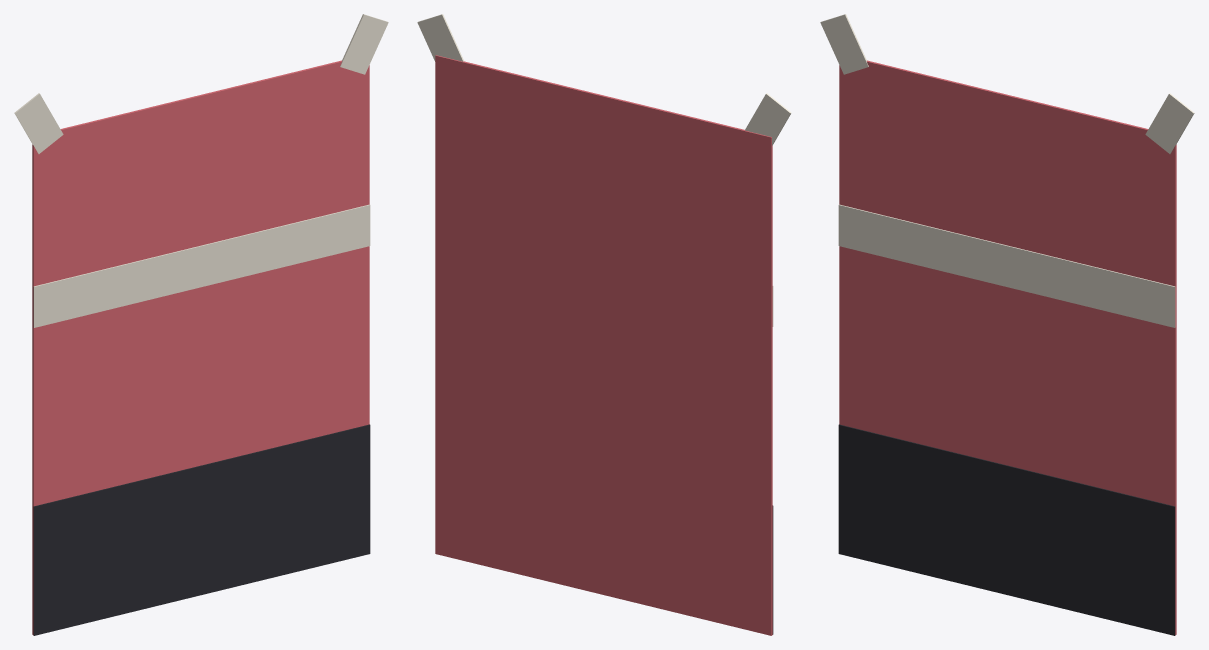
File: poster-bedroom-1.gltf
The picture shows the model from 3 angles, left to right: view 1: azimuth 30°, elevation 25°; view 2: azimuth 150°, elevation 25°; view 3: azimuth 330°, elevation 25°; orthographic projection.
Visible parts, largest first — view 1: sheet, band, stripe, tape_r, tape_l; view 2: sheet, tape_r, tape_l; view 3: sheet, band, stripe, tape_l, tape_r.
Boxes of the visible parts, x1,y1,x2,y2 form: sheet: (32,60,369,635); band: (33,424,370,635); stripe: (33,204,370,327); tape_r: (340,14,388,74); tape_l: (14,93,63,153); sheet: (435,55,772,635); tape_r: (417,14,463,61); tape_l: (745,93,791,145); sheet: (839,60,1176,635); band: (838,424,1175,635); stripe: (838,204,1175,327); tape_l: (820,14,868,74); tape_r: (1145,93,1194,153).
Bounding box in the file's own units: 0.0416 × 0.0576 × 0.000375.
